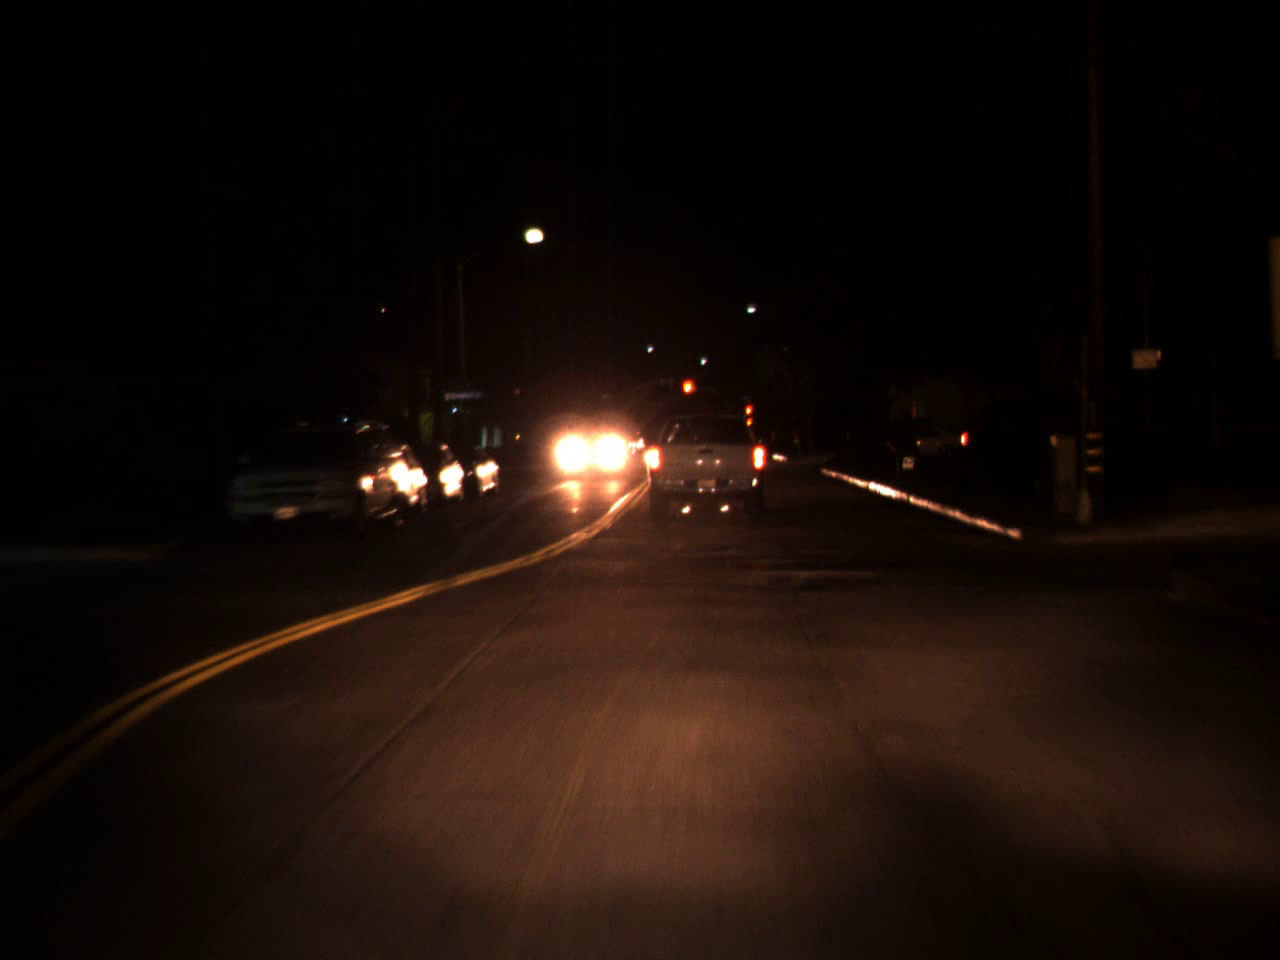stop: (680, 376, 696, 411), (745, 404, 752, 425)
